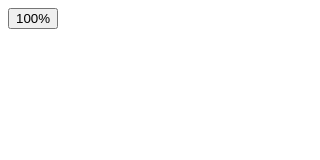
Test case: keeps an open menu across callback changes and selects with the current callback
Later steps or results of the test are not shown.
Click the button named "Zoom" at (33, 18), box [8,8,58,29]
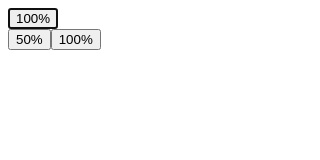
Check: the button named "Zoom" is expanded, box [8,8,58,29]
